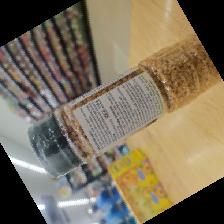TayNinh_green: (25, 34, 219, 179)
